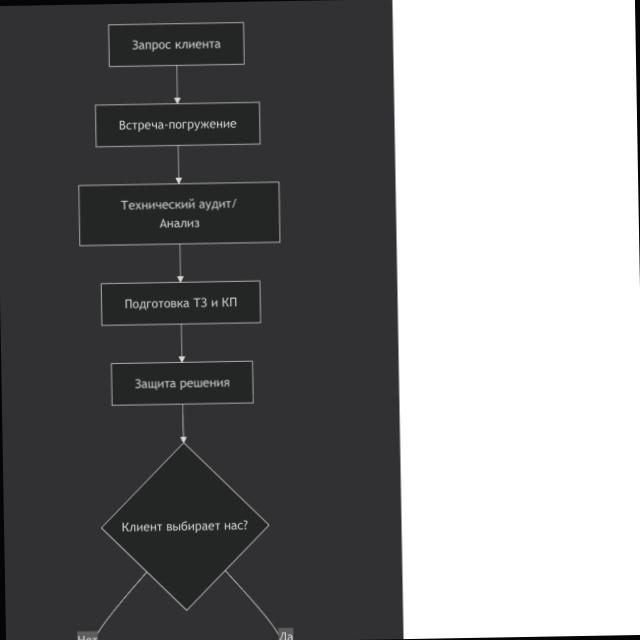arrow: (179, 324, 184, 362), (176, 146, 181, 184), (178, 244, 183, 282), (181, 405, 186, 442), (175, 66, 180, 103)
diamond: (103, 444, 267, 609)
rectangle: (79, 182, 280, 246), (96, 102, 260, 147), (101, 282, 260, 325), (111, 362, 253, 405), (108, 22, 244, 66)
